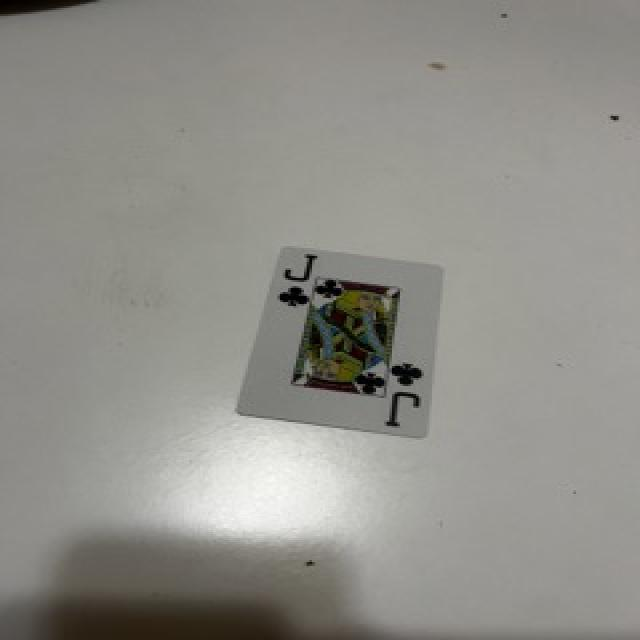Jack of clubs: (238, 248, 442, 436)
